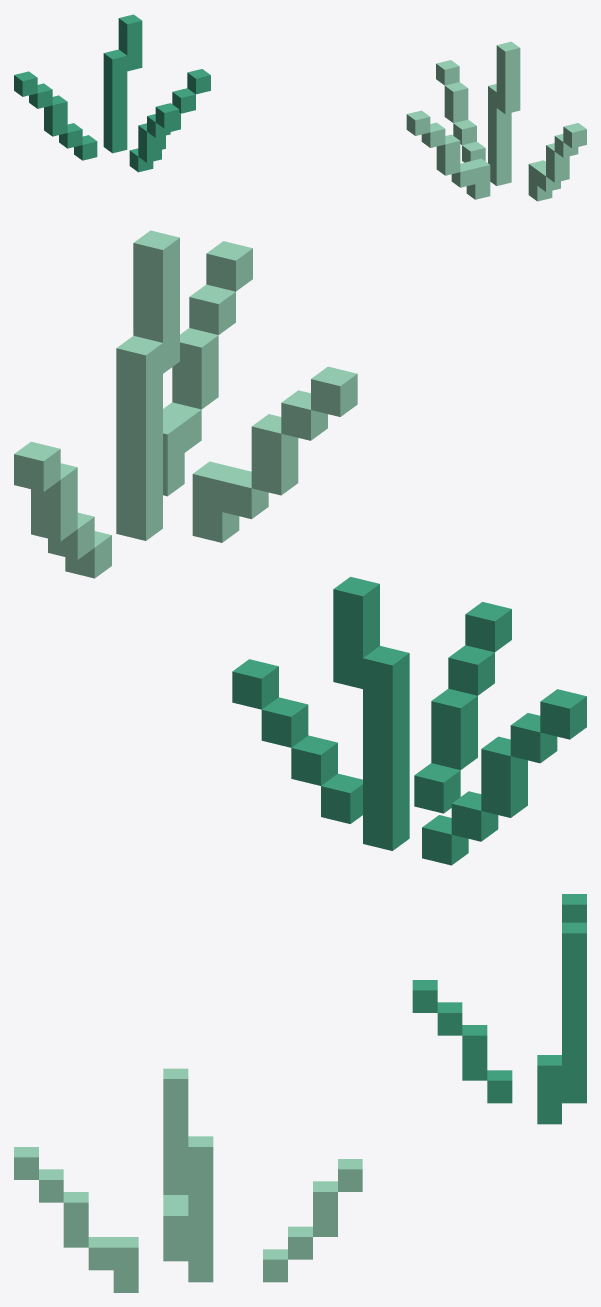
Rendered from lite-grass.obj.
3 views of the same model, one above another, from view 1: azimuth 30°, elevation 25°; view 2: azimuth 150°, elevation 25°; view 3: azimuth 270°, elevation 25° (orthographic). The views are drawn at different scales.
Bounding box in the file's own units: 2.5 × 0.9 × 2.3.
1 material, 1 textured.
